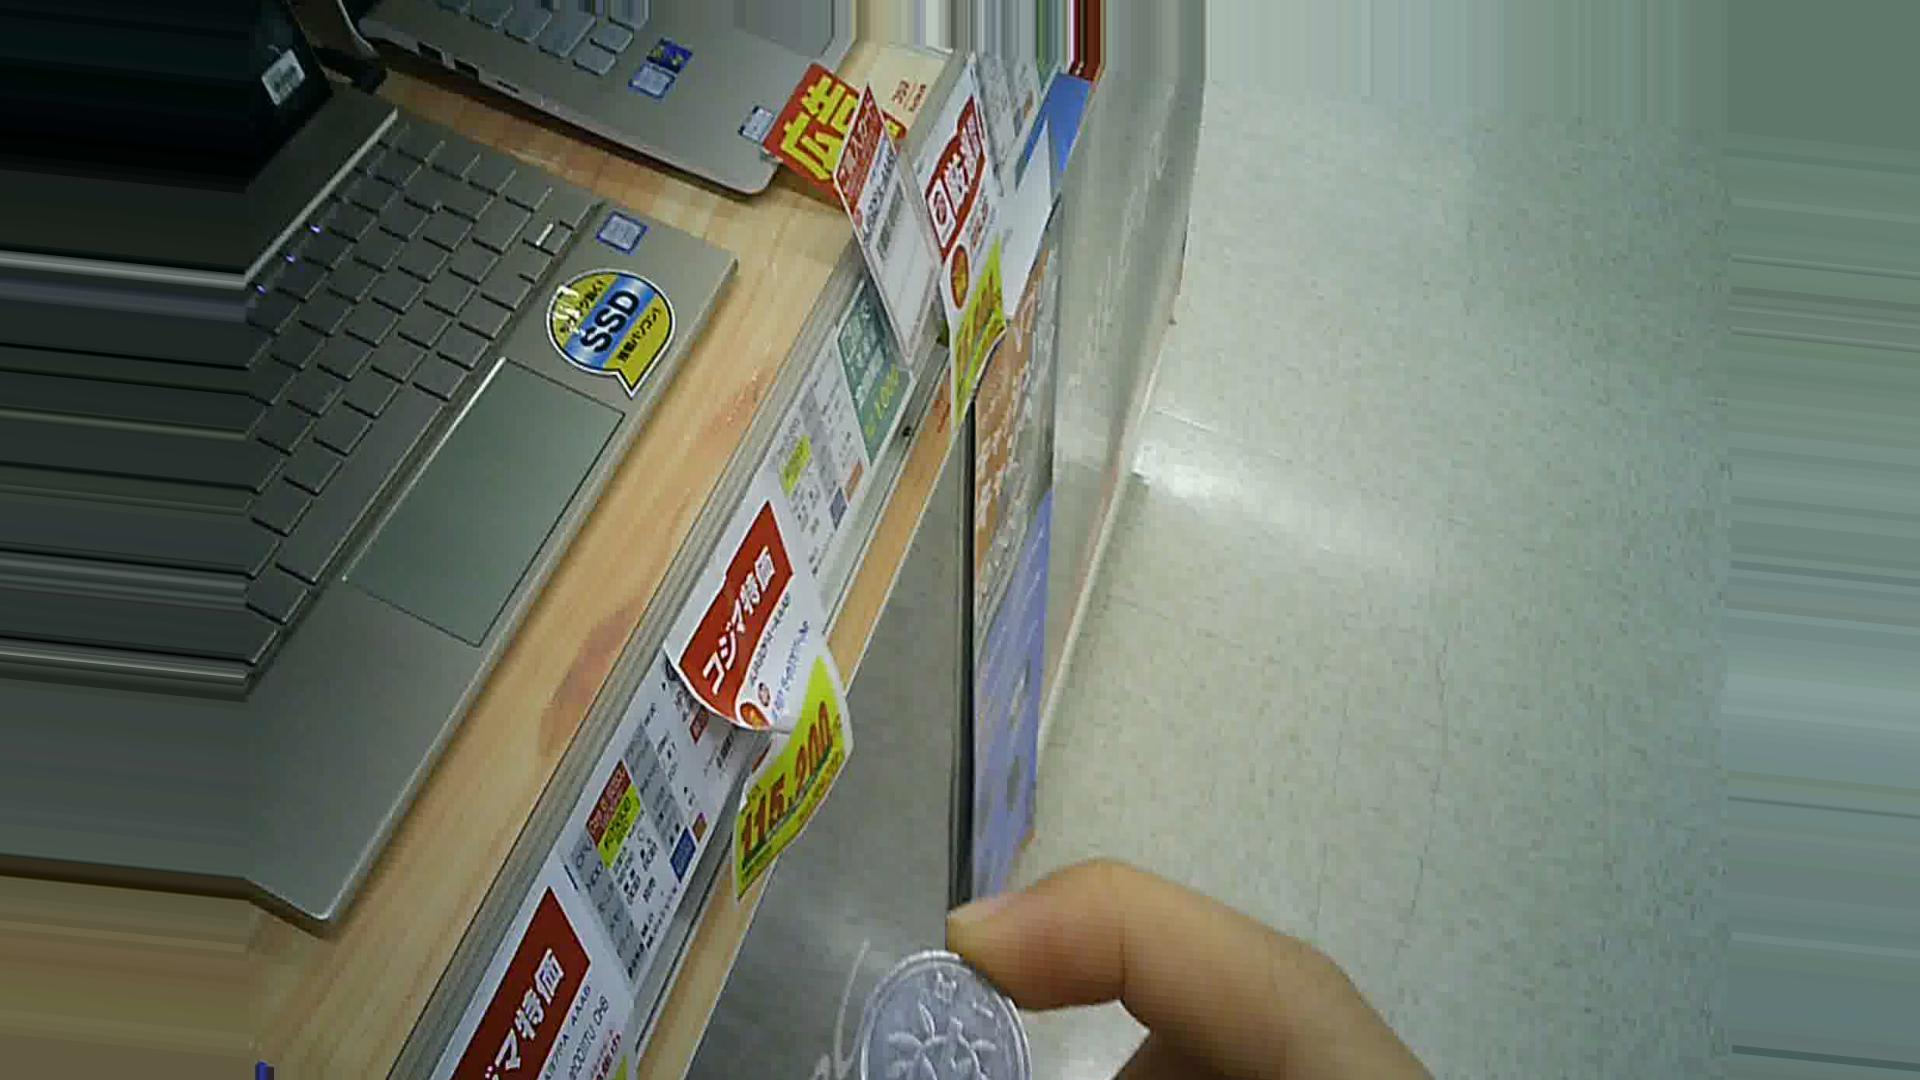1 Yen: (835, 936, 1056, 1079)
